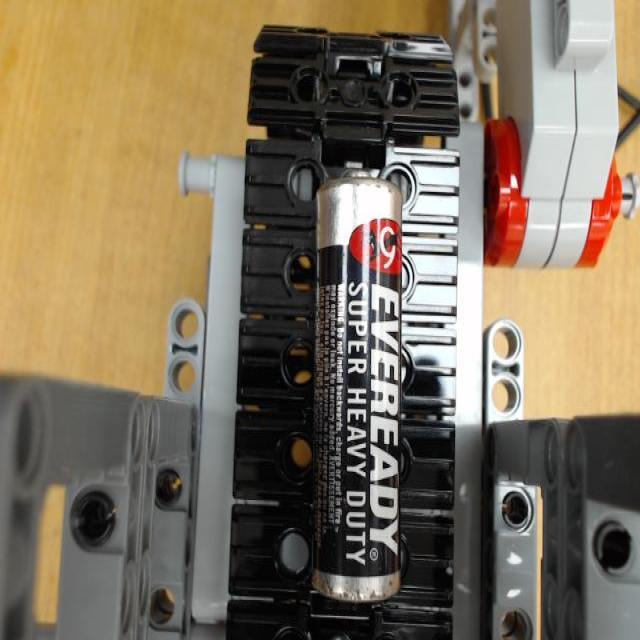AA: (312, 168, 401, 604)
